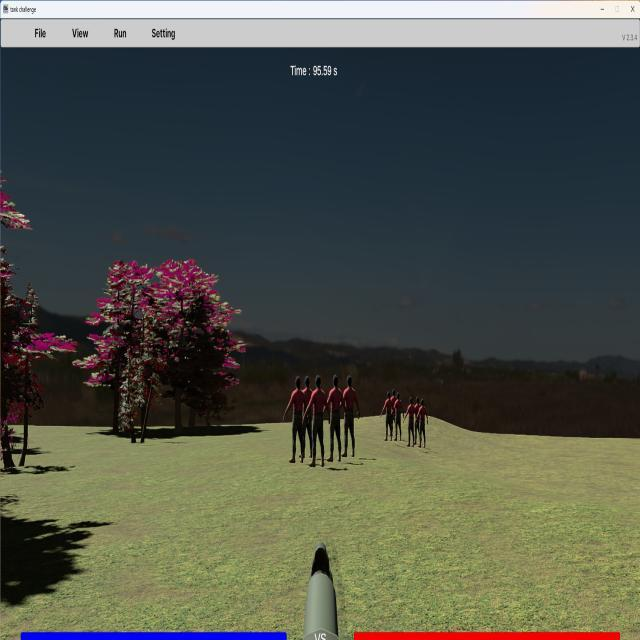Human: (284, 376, 309, 462), (323, 373, 346, 463), (338, 374, 360, 459), (404, 395, 419, 448), (381, 389, 395, 442), (390, 390, 404, 442), (416, 397, 429, 449)
